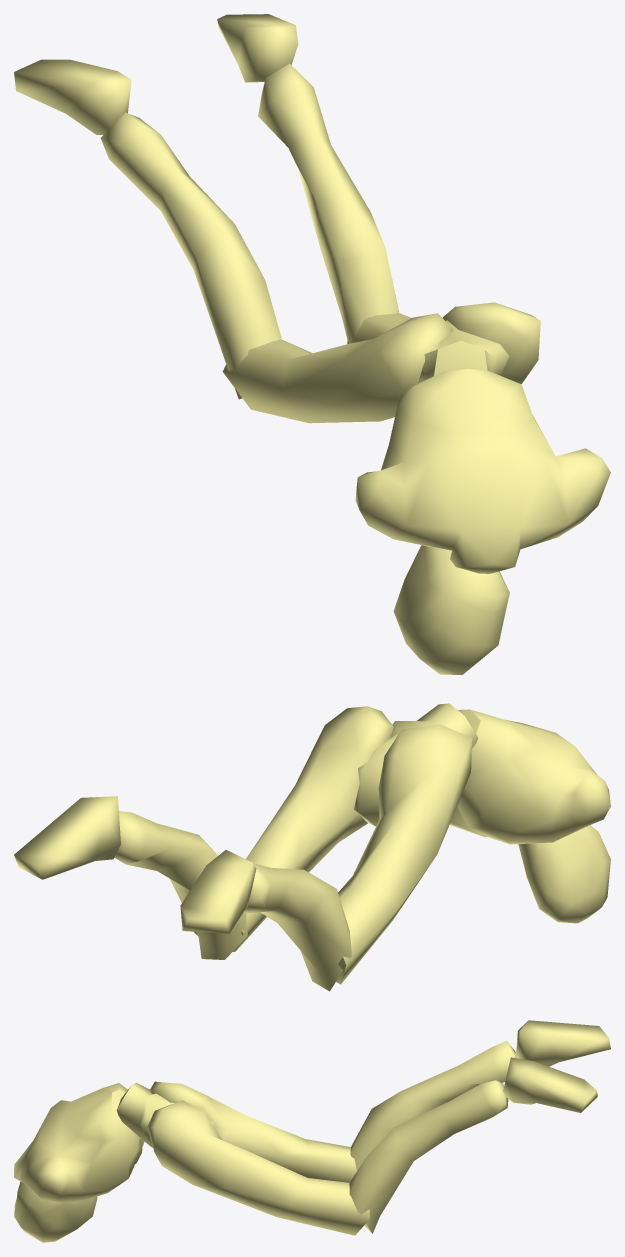
Rendered from filth37.obj.
3 renders of one model, top to bottom at view 1: azimuth 30°, elevation 25°; view 2: azimuth 150°, elevation 25°; view 3: azimuth 270°, elevation 25°, orthographic. The views are drawn at different scales.
Parts seen in each view (by area): view 1: Melee_Husk; view 2: Melee_Husk; view 3: Melee_Husk.
Part boxes in pixels (x1=…): Melee_Husk: x1=14, y1=14, x2=610, y2=674; Melee_Husk: x1=14, y1=703, x2=610, y2=991; Melee_Husk: x1=14, y1=1020, x2=610, y2=1242.
Size of the model in its own units: 25.73 by 30 by 69.37.
